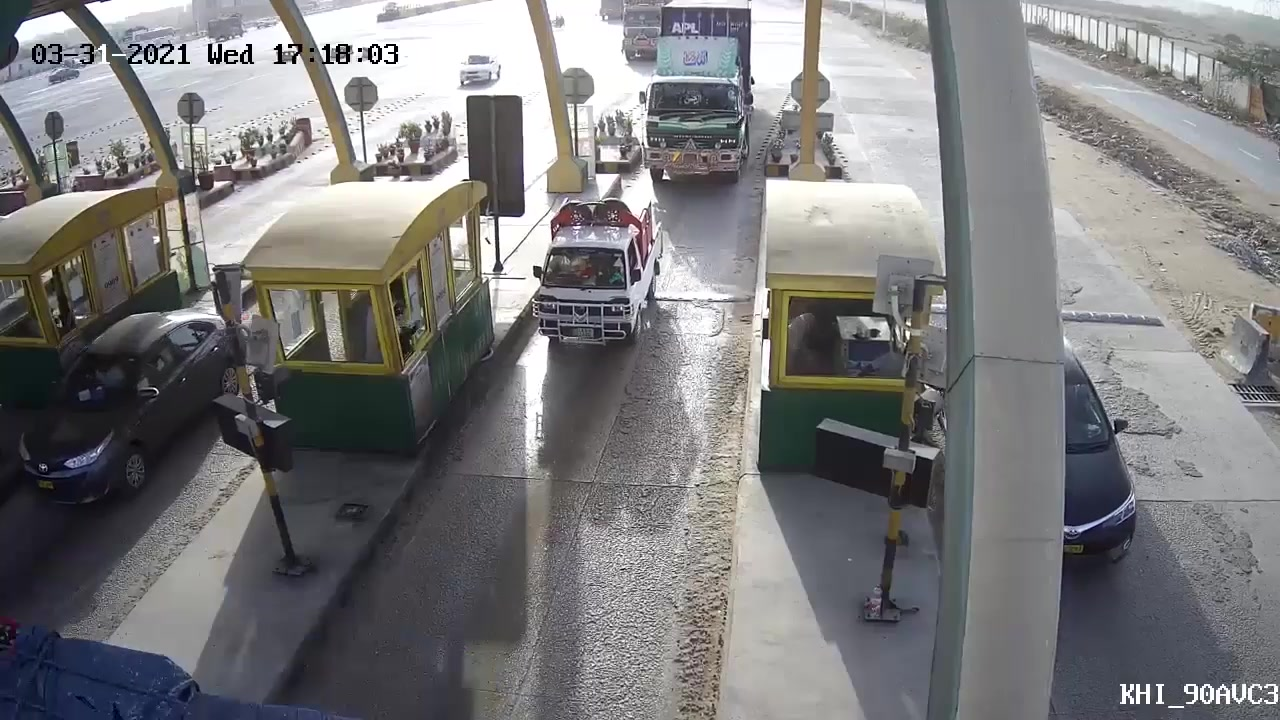F1: (524, 183, 672, 359)
